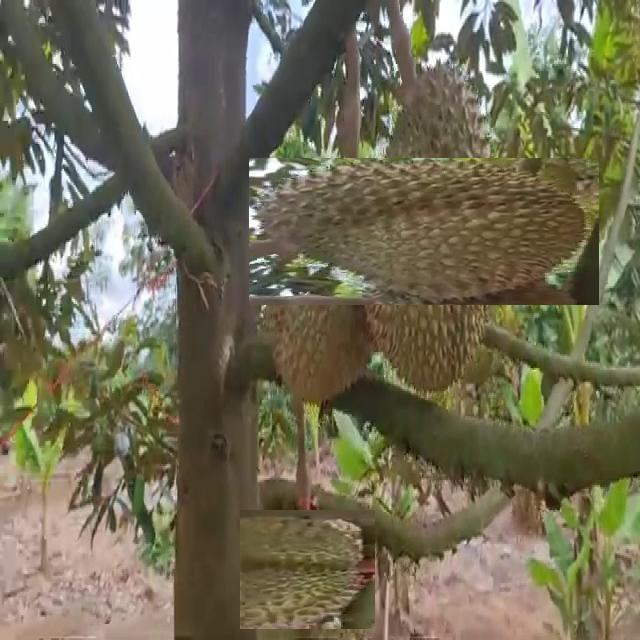durian: (300, 107, 549, 356), (258, 164, 390, 400), (244, 506, 371, 634)
